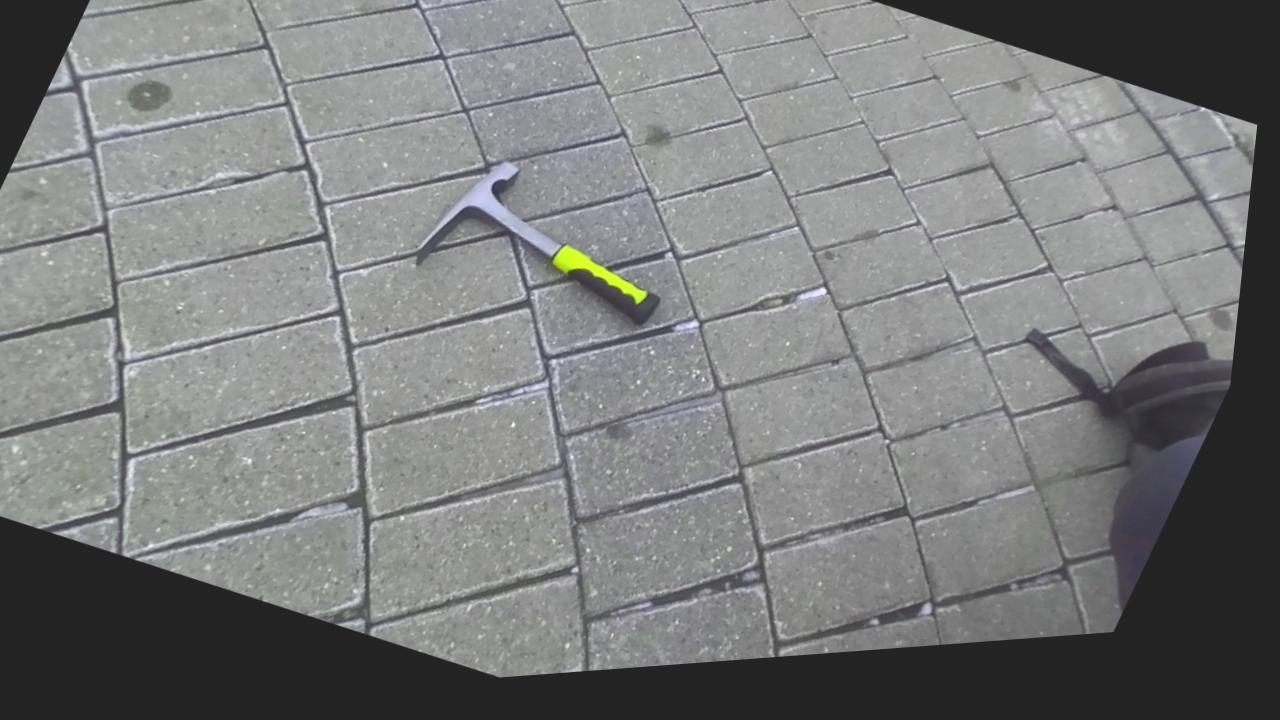pick: (414, 161, 658, 323)
